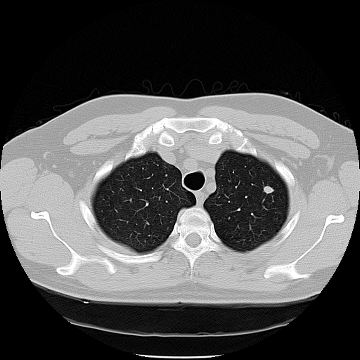nodule: (263, 184, 273, 194)
